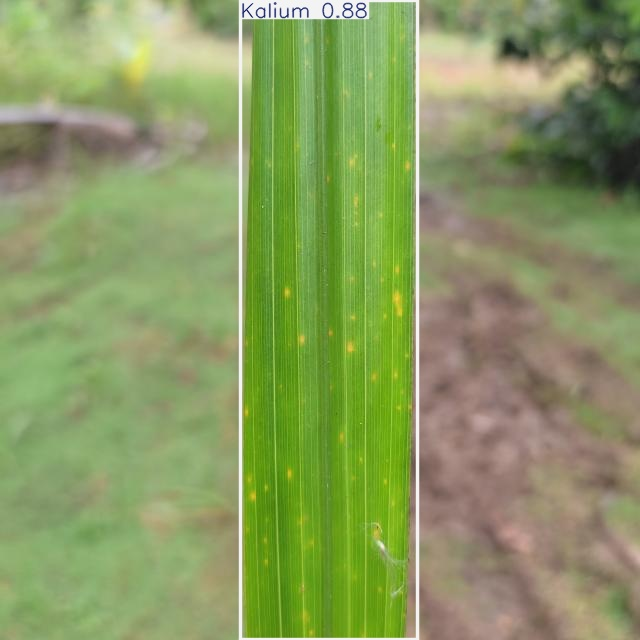Kalium: (241, 0, 417, 640)
